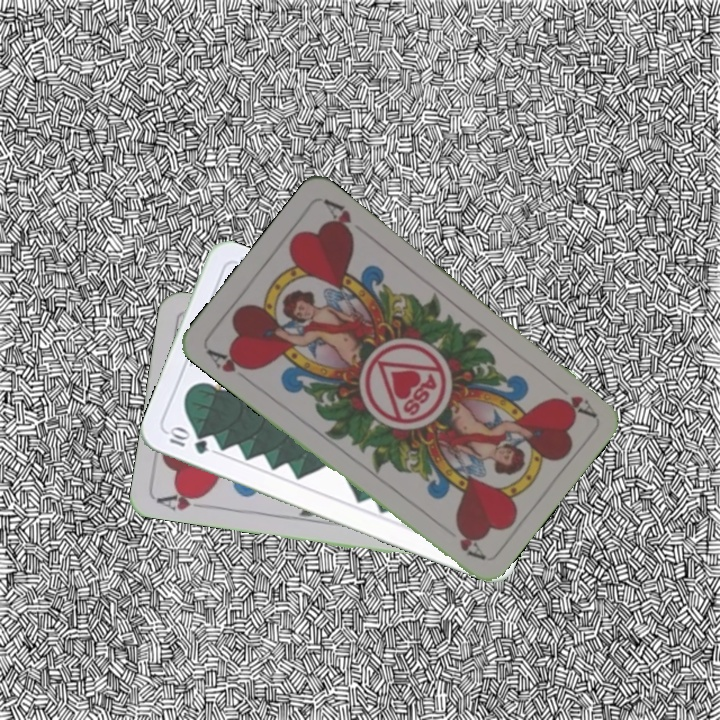G10: (163, 424, 212, 457)
HA: (202, 344, 257, 376), (154, 486, 213, 513), (548, 391, 597, 420)
